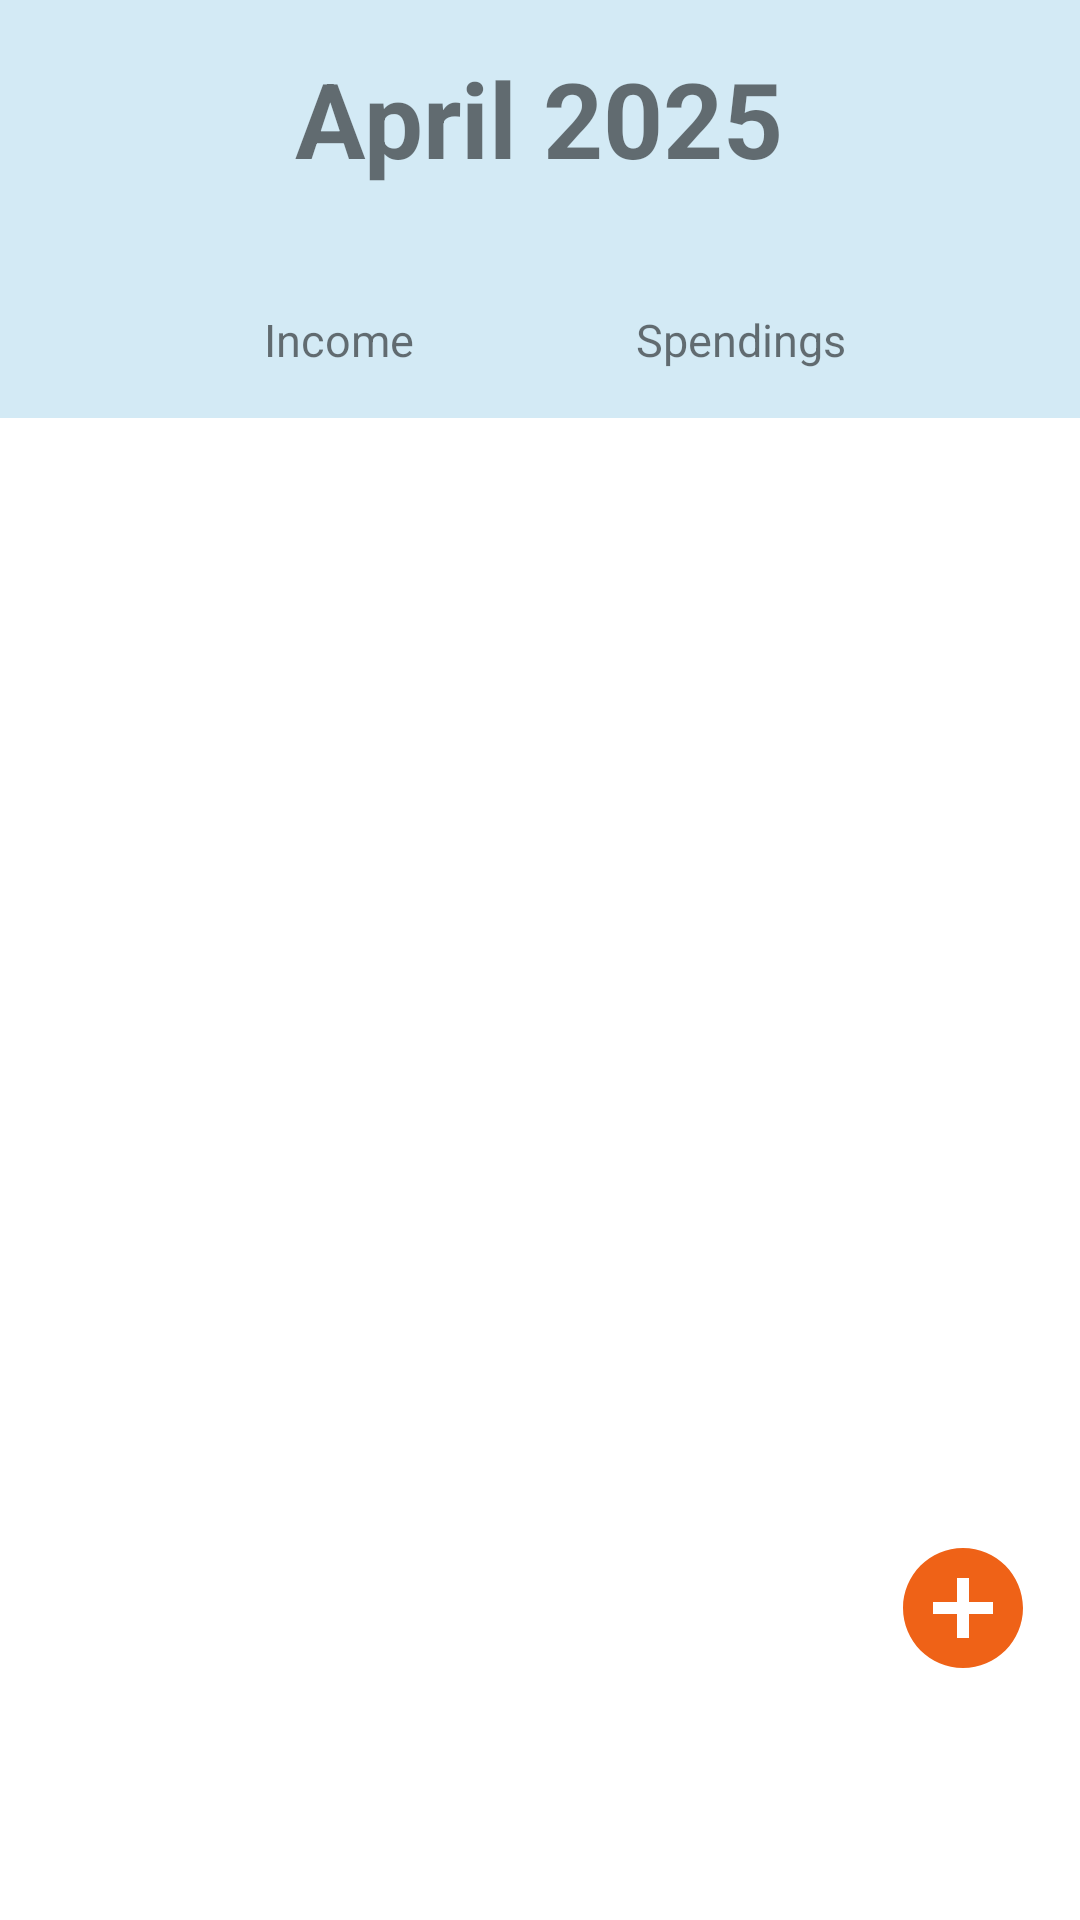

Screen size 1080 x 1920. Icon name, then its box in pixels as (x1=x1, y1=y1, x2=x2, y2=y2):
Add transaction: (x1=903, y1=1548, x2=1023, y2=1668)
